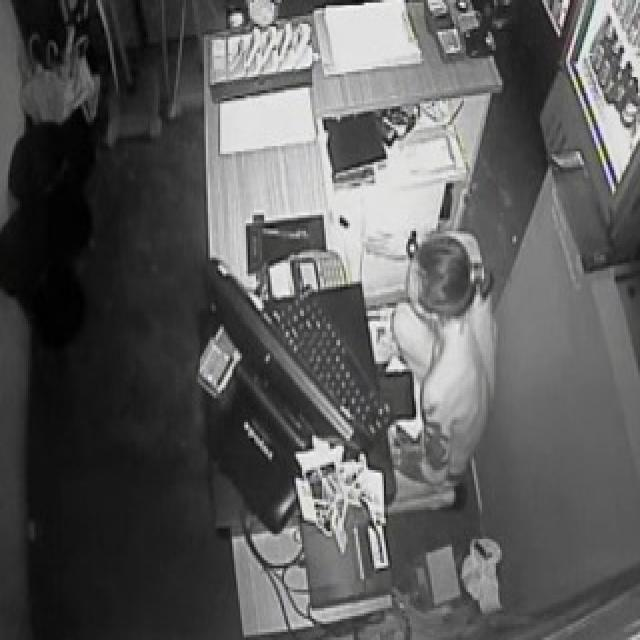thief: (395, 216, 499, 447)
